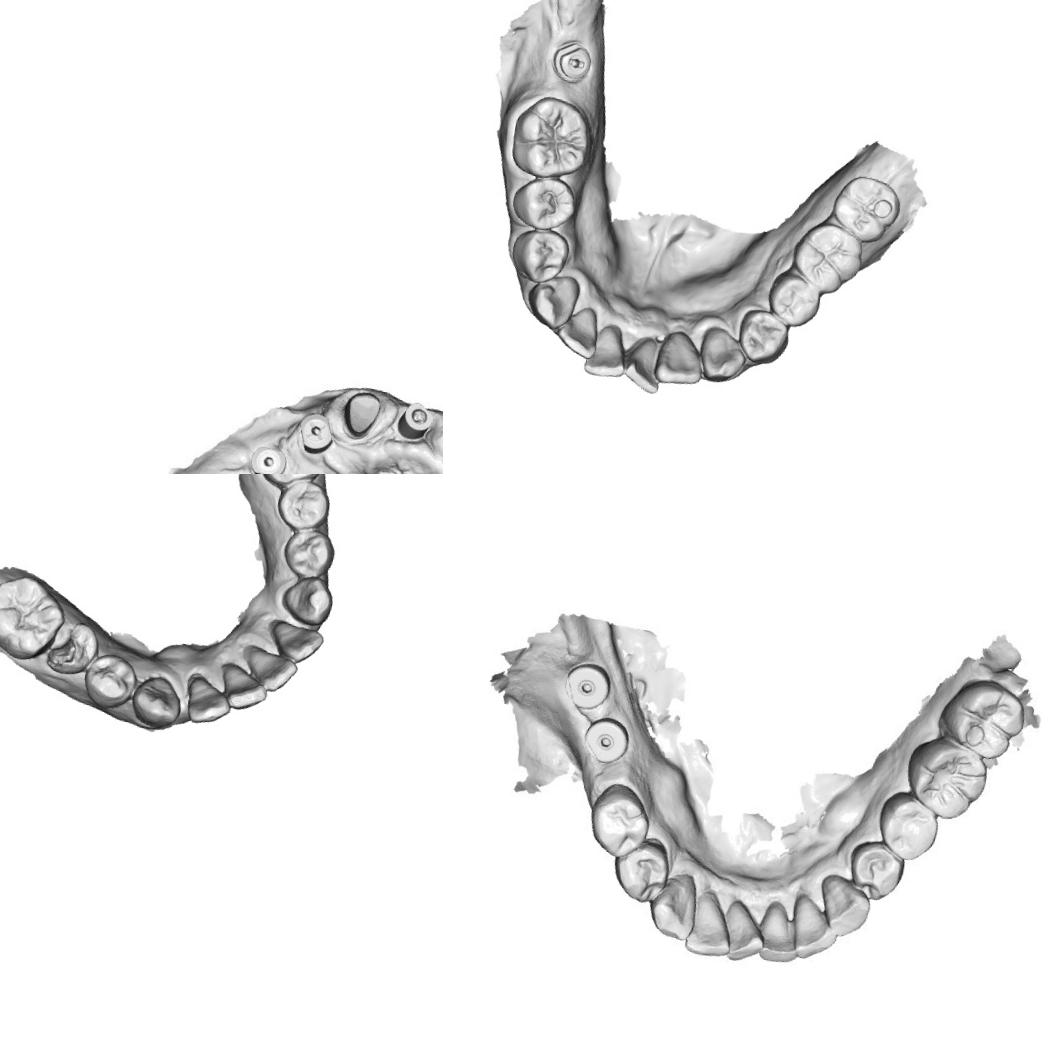canine: (642, 864, 703, 942), (812, 868, 874, 939), (522, 267, 582, 332), (126, 670, 186, 732), (276, 570, 337, 629), (694, 324, 751, 387)
crown: (335, 383, 394, 446)
implant: (558, 653, 616, 717), (576, 710, 630, 770), (392, 396, 440, 444), (248, 441, 287, 474)
implant_minus: (548, 35, 596, 88)
implant_plus: (292, 408, 334, 458)
incisor: (650, 326, 708, 391), (787, 894, 842, 960), (716, 898, 771, 963), (236, 642, 300, 694), (179, 670, 236, 728), (552, 300, 603, 362), (581, 320, 632, 382), (214, 660, 272, 714), (264, 616, 326, 666), (684, 888, 730, 955), (618, 333, 666, 396), (755, 900, 800, 961)
molar: (505, 90, 596, 184), (904, 735, 991, 818), (0, 568, 70, 665), (786, 216, 868, 298), (826, 170, 905, 247), (950, 680, 1023, 760), (242, 474, 333, 495)
premolar: (507, 170, 581, 236), (842, 836, 910, 906), (506, 221, 574, 287), (42, 614, 104, 682), (762, 267, 826, 332), (590, 788, 648, 859), (880, 796, 941, 863), (270, 474, 333, 537), (732, 305, 794, 368), (79, 649, 140, 712), (277, 524, 339, 583), (613, 836, 669, 900)
